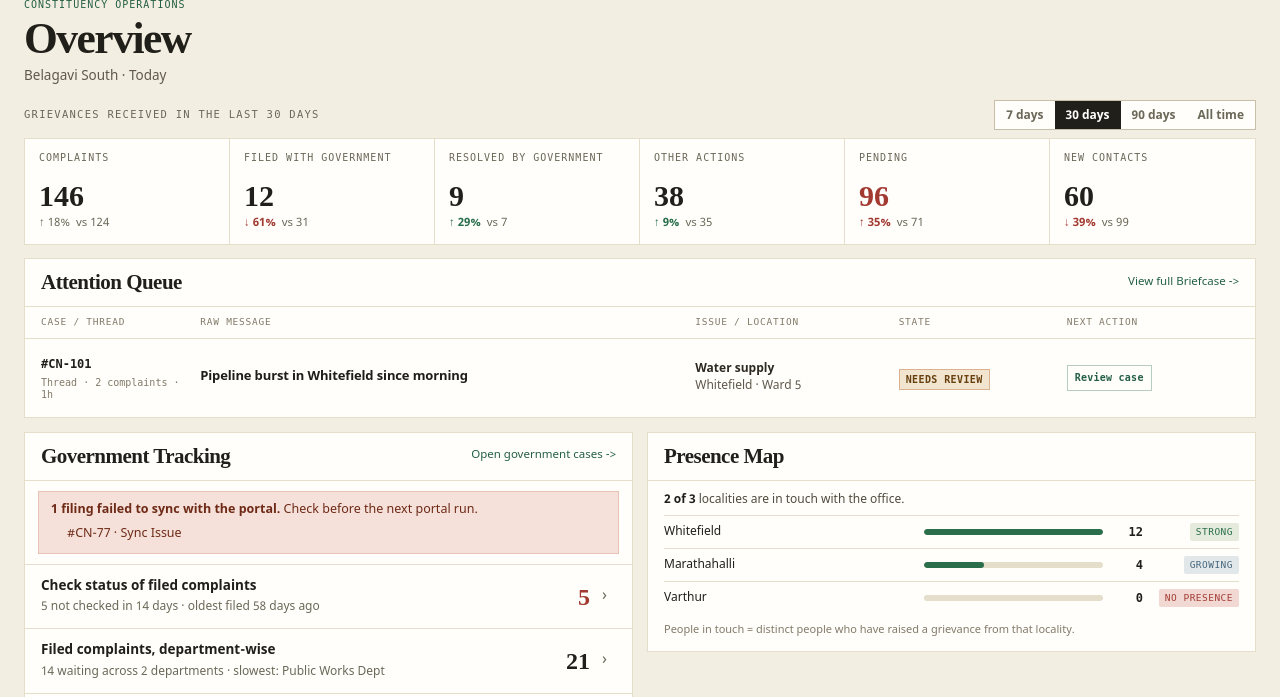
Scenario: MP dashboard overview › Government Tracking: three compact rows that open on click, and recording a status check
The width and height of the screenshot is (1280, 697).
Later steps or results of the test are not shown.
Expected: the text "5 not checked in 14 days · oldest filed 58 days ago" is shown, 41,599 -> 320,615
Expected: the text "14 waiting across 2 departments · slowest: Public Works Dept" is shown, 41,664 -> 385,680
Click the button "Check status of filed complaints": coordinates (149, 587) 25,565 -> 632,628
(page scrolled)
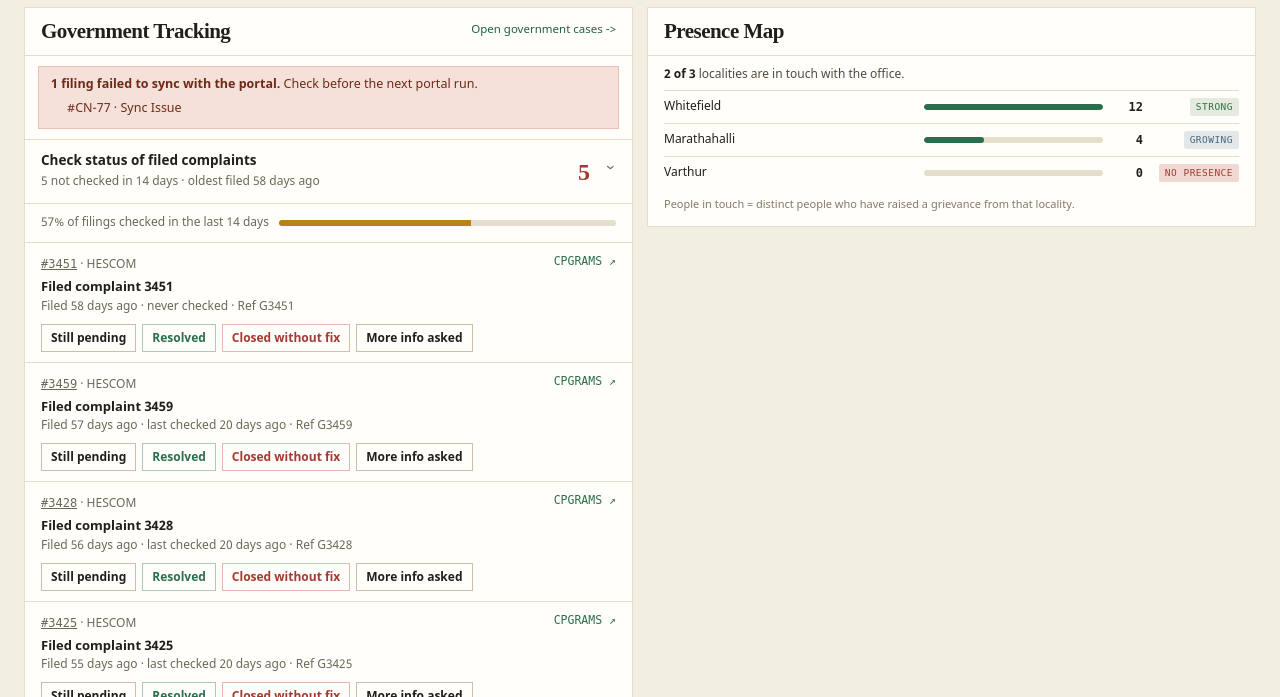
Expected: the text "Filed complaint 3412" is not shown
Expected: the button "Check status of filed complaints" is expanded, 25,140 -> 632,203
Expected: the text "Filed complaint 3451" is shown, 41,279 -> 173,296
Click the button "Resolved" below "never checked": coordinates (179, 338) 142,324 -> 216,352
(page scrolled)
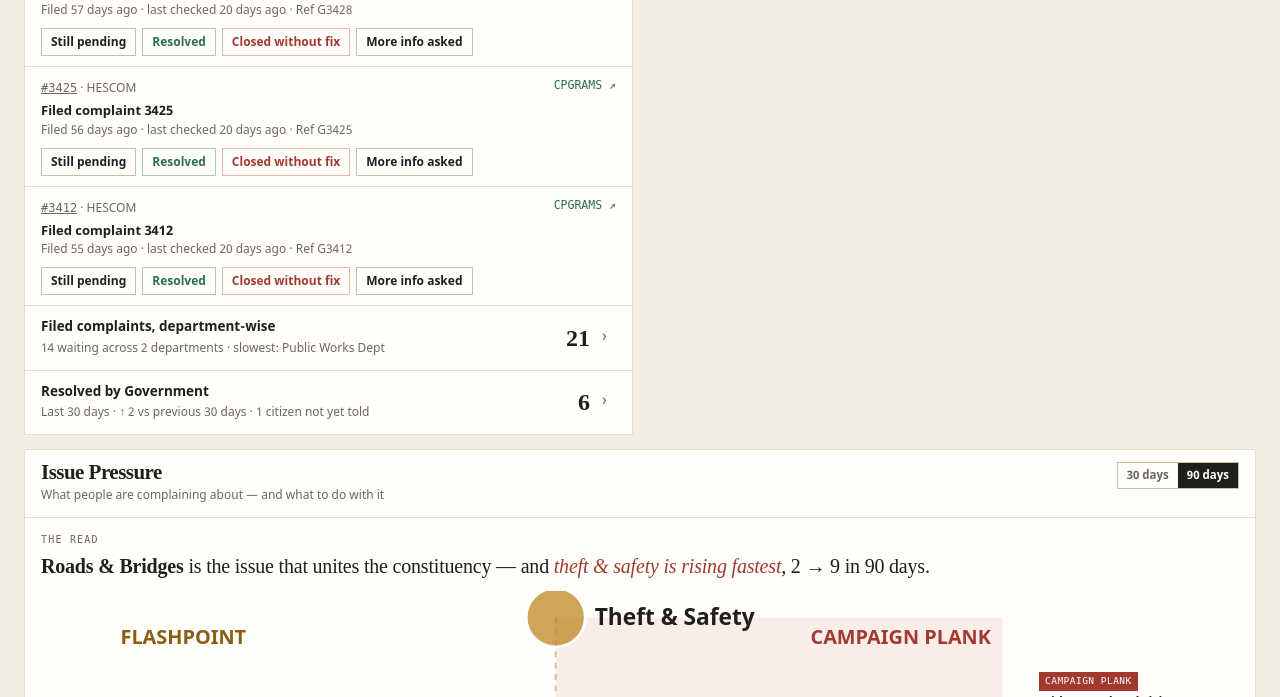
Expected: the text "Filed complaint 3451" is gone
Click the button "Filed complaints, department-wise": coordinates (328, 338) 25,306 -> 632,370
(page scrolled)
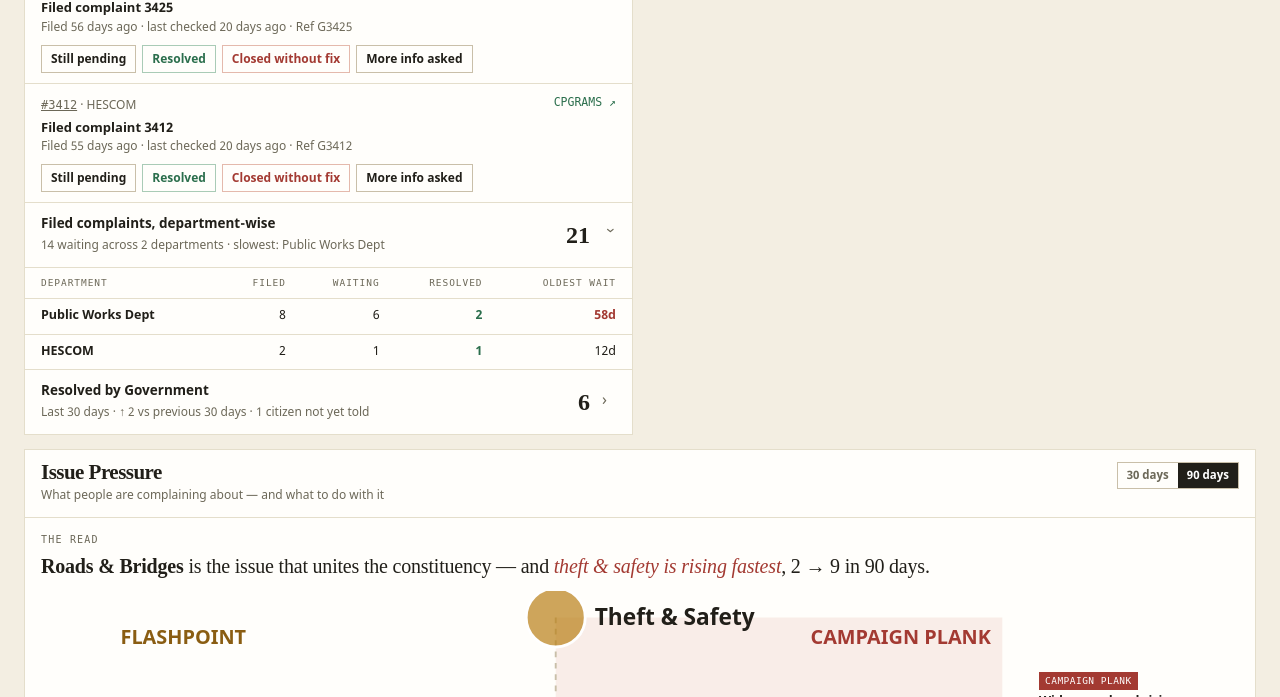
Expected: the cell "Public Works Dept" is shown, 25,298 -> 221,334
Click the button "Resolved by Government": coordinates (328, 402) 25,370 -> 632,434
(page scrolled)
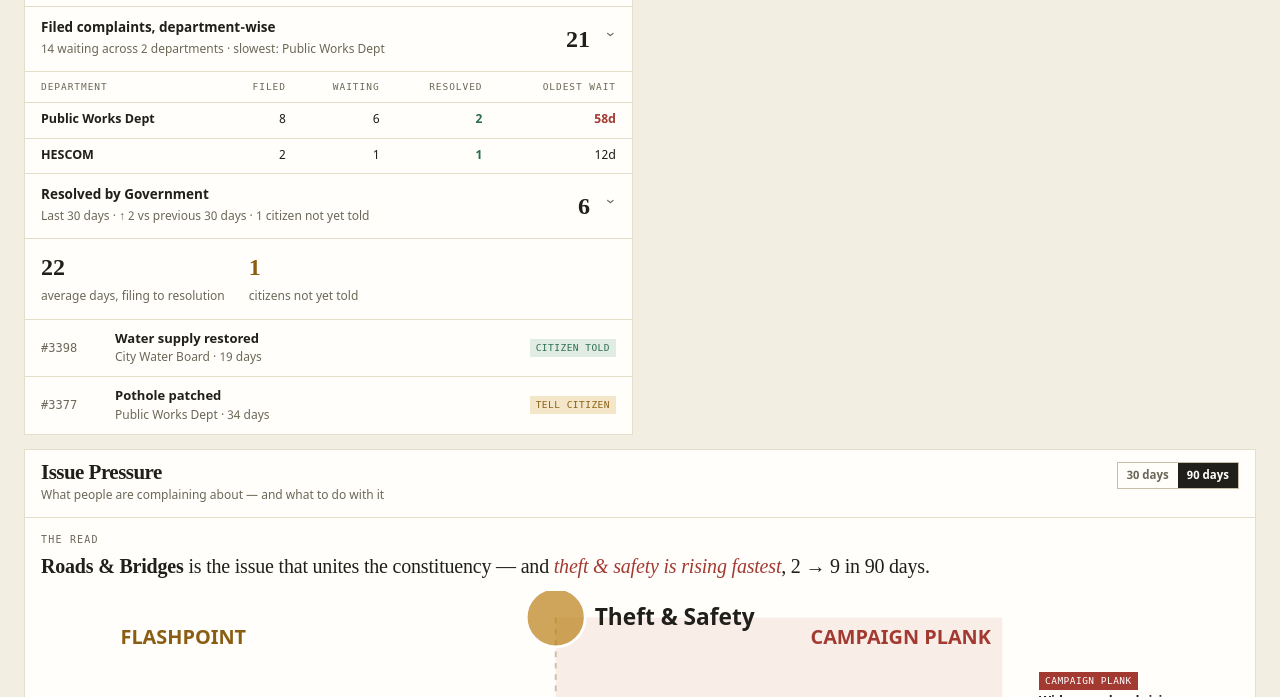
Expected: the text "Tell citizen" is shown, 530,396 -> 616,414
